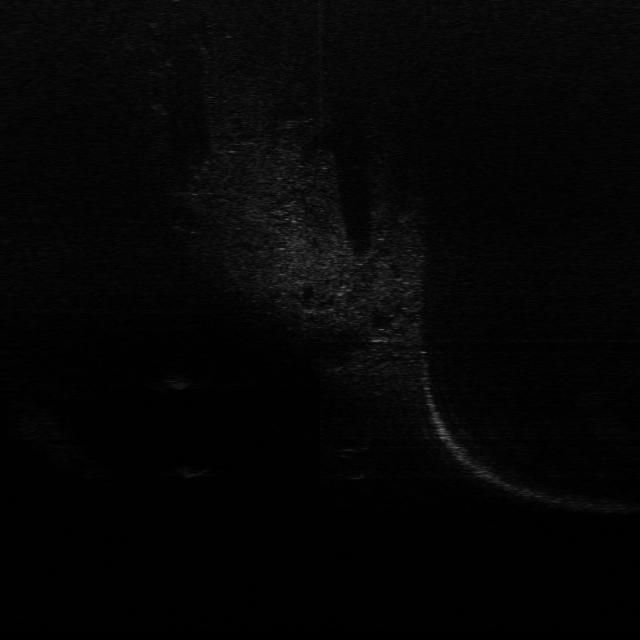cube: (172, 462, 214, 481)
square cage: (156, 368, 196, 390)
tyre: (328, 446, 377, 480)
